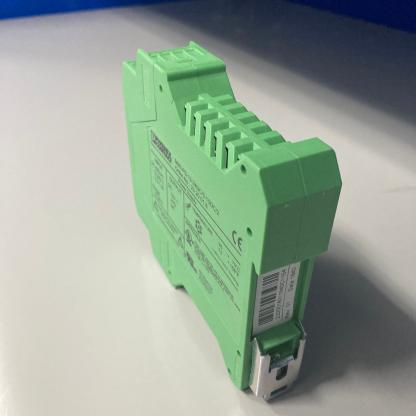SP0000011: (69, 42, 358, 416)
